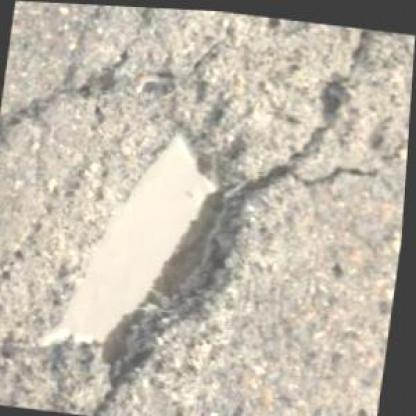pothole: (26, 98, 269, 412)
